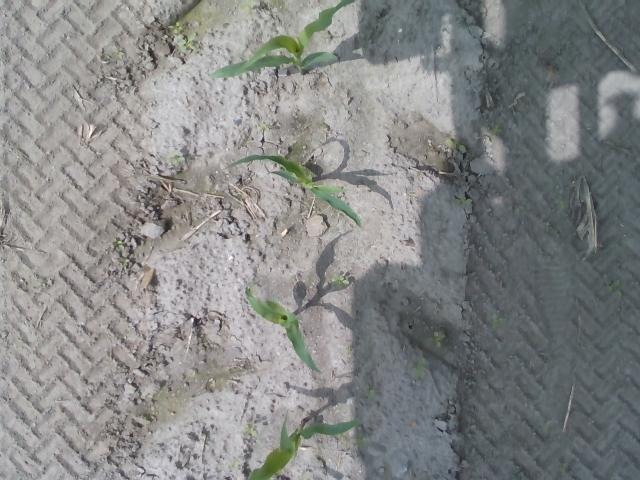Maize: (207, 0, 360, 80), (223, 154, 364, 230), (246, 411, 364, 480), (245, 285, 322, 374)
Weeds: (166, 20, 186, 34), (446, 138, 466, 150), (452, 196, 476, 206), (332, 274, 348, 288), (430, 334, 444, 348), (109, 237, 124, 250), (413, 363, 426, 377), (244, 424, 257, 434), (182, 38, 193, 48)
